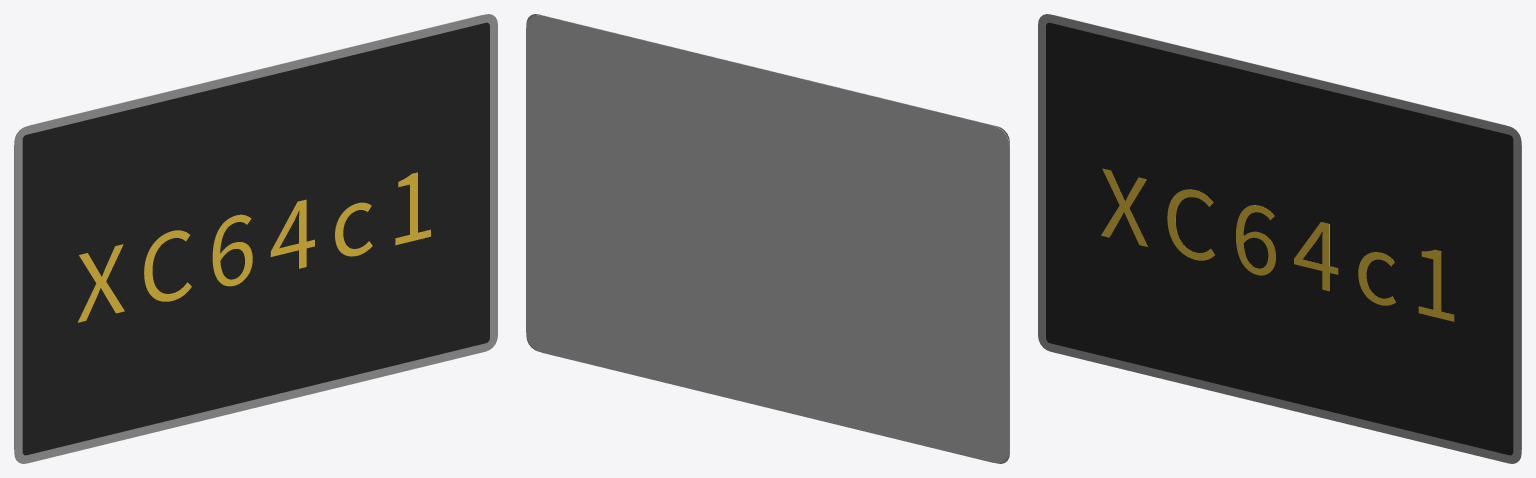
3 views of the same model, side by side, from view 1: azimuth 30°, elevation 25°; view 2: azimuth 150°, elevation 25°; view 3: azimuth 330°, elevation 25° (orthographic).
Visible parts, largest first — view 1: XC64c1_fond01, XC64c1_cadre00, XC64c1_txt02, XC64c1_dos; view 2: XC64c1_dos, XC64c1_cadre00; view 3: XC64c1_fond01, XC64c1_cadre00, XC64c1_txt02, XC64c1_dos.
Boxes of the visible parts, box(x1,y1,x2,y2) form: XC64c1_fond01: box(22, 22, 489, 455); XC64c1_cadre00: box(14, 14, 497, 463); XC64c1_txt02: box(77, 172, 430, 322); XC64c1_dos: box(14, 15, 481, 449); XC64c1_dos: box(526, 15, 1009, 463); XC64c1_cadre00: box(526, 14, 1009, 463); XC64c1_fond01: box(1046, 22, 1513, 455); XC64c1_cadre00: box(1038, 14, 1521, 463); XC64c1_txt02: box(1101, 168, 1454, 321); XC64c1_dos: box(1054, 15, 1521, 449).
Bounding box in the file's own units: 1.2 × 0.8 × 0.0025.
